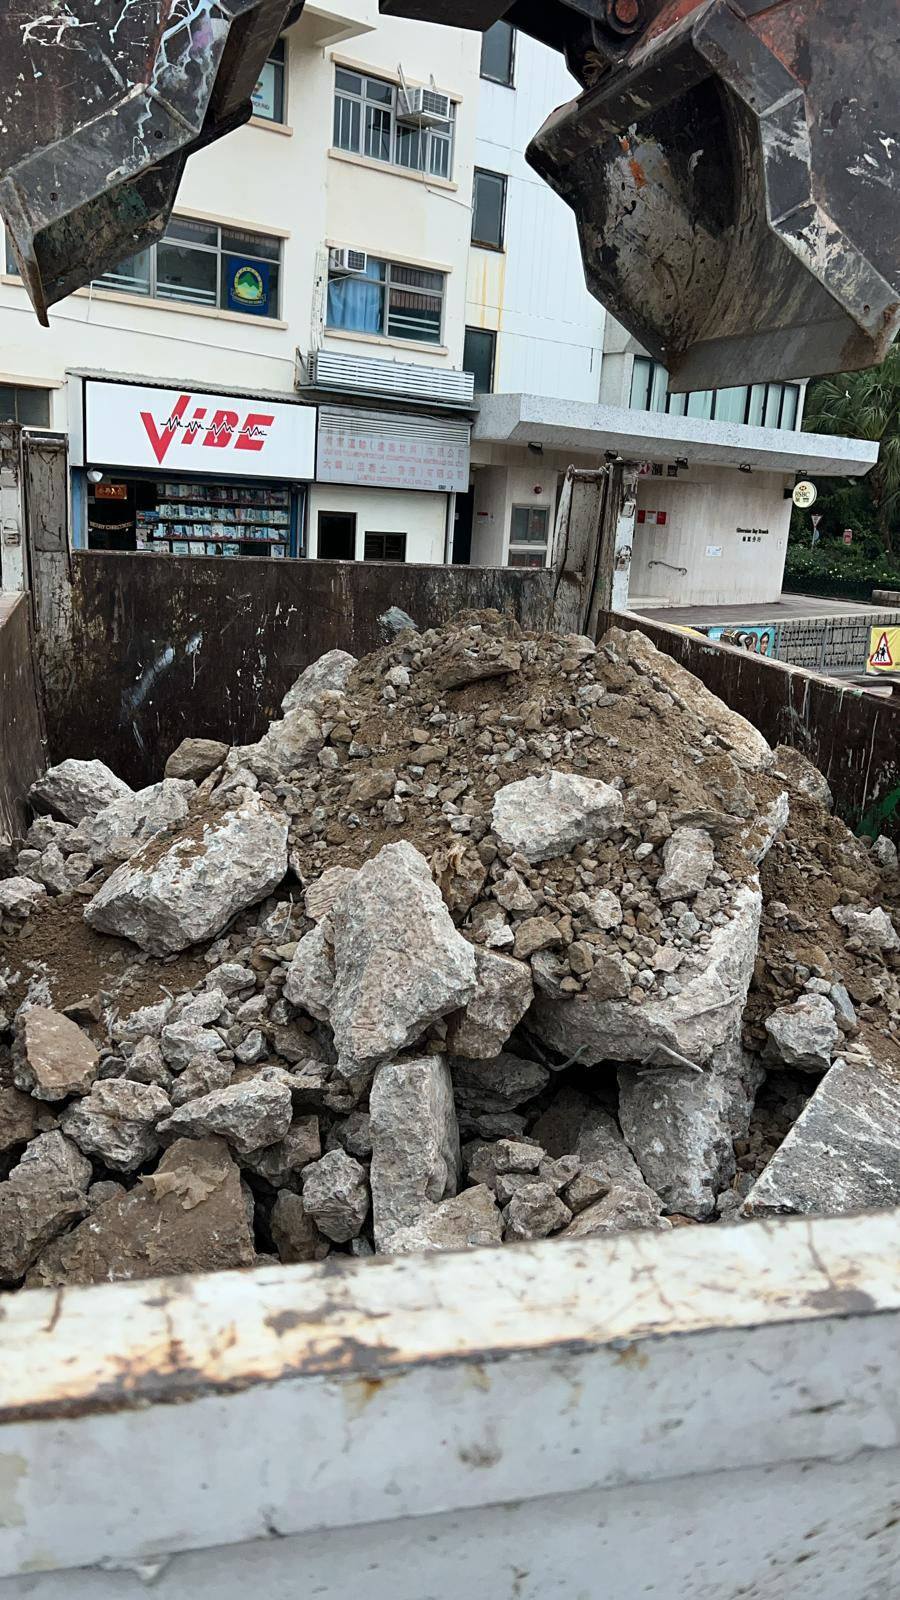dry: (0, 610, 895, 1273)
